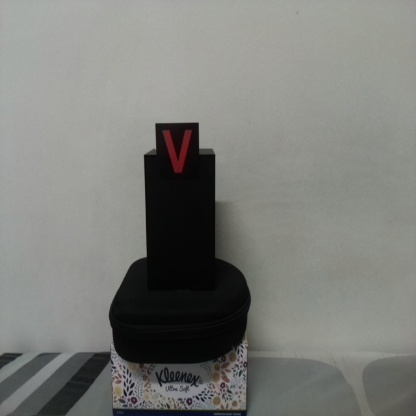id_11: (155, 122, 200, 186)
